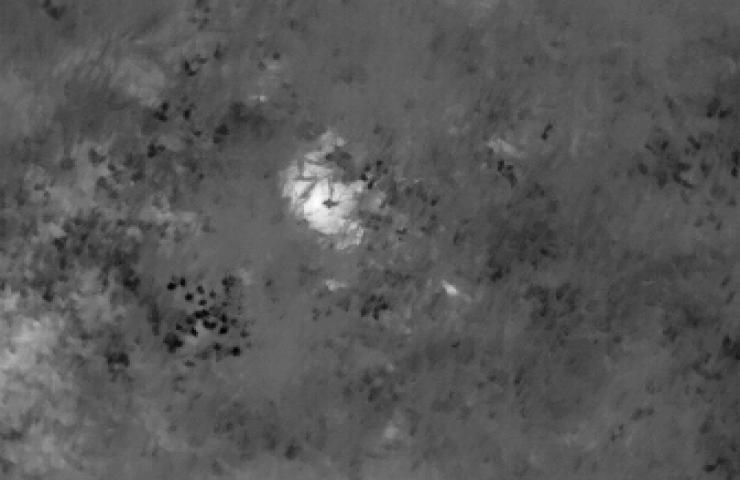landmines: (286, 162, 381, 242)
